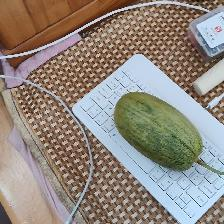gua: (118, 91, 203, 170)
